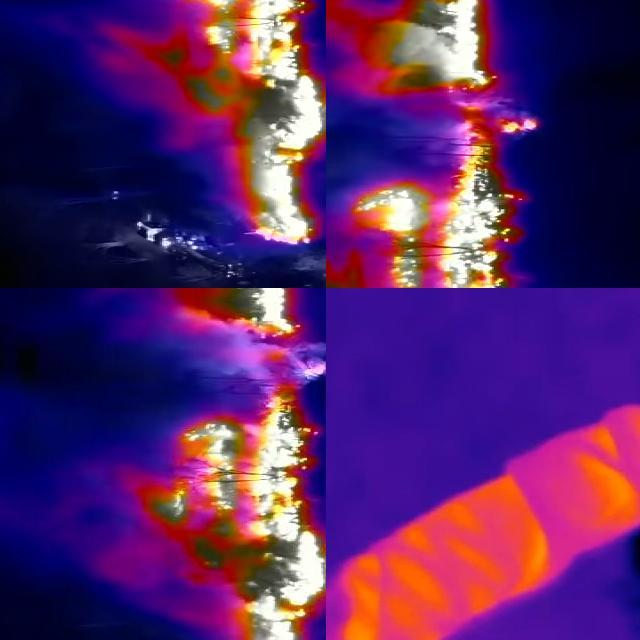fire: (141, 387, 327, 640), (168, 1, 327, 246), (340, 117, 556, 289), (347, 1, 504, 95), (181, 289, 327, 381)
